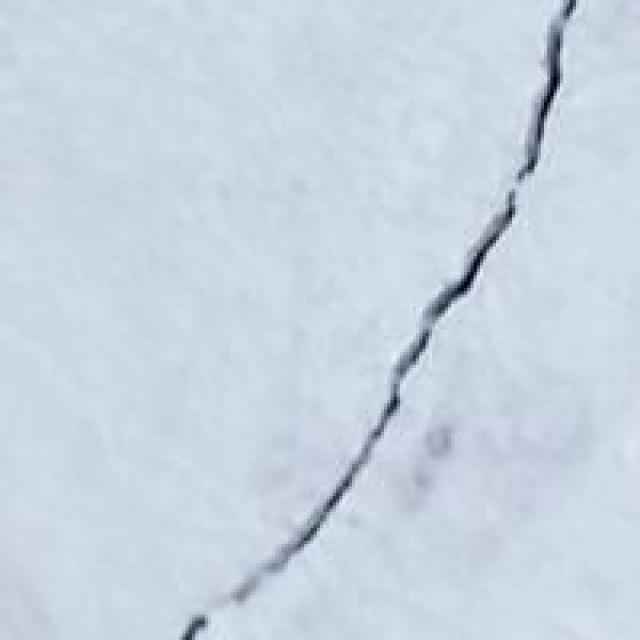crack: (166, 3, 580, 634)
